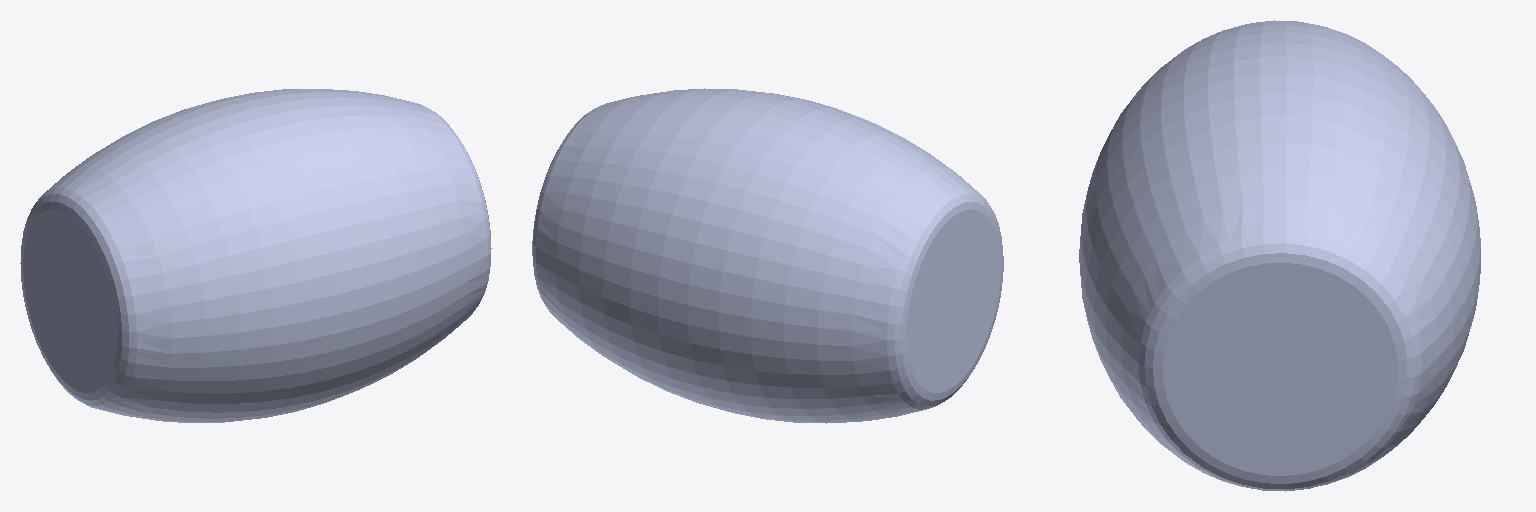
URDF robot description (roller):
<robot
  name="roller">
  <link
    name="roller">
    <inertial>
      <origin
        xyz="0 1.5917E-19 -1.54882296668954E-35"
        rpy="0 0 0" />
      <mass
        value="0.053952" />
      <inertia
        ixx="8.22577096266597E-06"
        ixy="3.26666109388294E-23"
        ixz="-4.29496830380893E-39"
        iyy="1.35010103706458E-05"
        iyz="0"
        izz="1.35010103706458E-05" />
    </inertial>
    <visual>
      <origin
        xyz="0 0 0"
        rpy="1.5707963267949 0 0" />
      <geometry>
        <mesh
          filename="package://roller/meshes/roller.STL" />
      </geometry>
      <material
        name="">
        <color
          rgba="0.79216 0.81961 0.93333 1" />
      </material>
    </visual>
    <collision>
      <origin
        xyz="0 0 0"
        rpy="1.5707963267949 0 0" />
      <geometry>
        <mesh
          filename="package://roller/meshes/roller.STL" />
      </geometry>
    </collision>
  </link>
</robot>

--- What the picture shows (computed from the rendered views, not written in the file) ---
3 views of the same robot in one strip: view 1: azimuth 30°, elevation 25°; view 2: azimuth 150°, elevation 25°; view 3: azimuth 270°, elevation 25° (orthographic).
Robot: roller — 1 links, 0 joints (none); root link roller; default pose: all joints at 0.
Links seen in each view (by area): view 1: roller; view 2: roller; view 3: roller.
Boxes of the visible links, x1,y1,x2,y2 form: roller: (20, 89, 491, 422); roller: (532, 88, 1003, 423); roller: (1079, 20, 1480, 491).
Bounding box of the posed robot: 0.0508 × 0.0381 × 0.0381 m (x, y, z).
1 mesh visuals loaded from 1 distinct referenced files (1 binary STL).